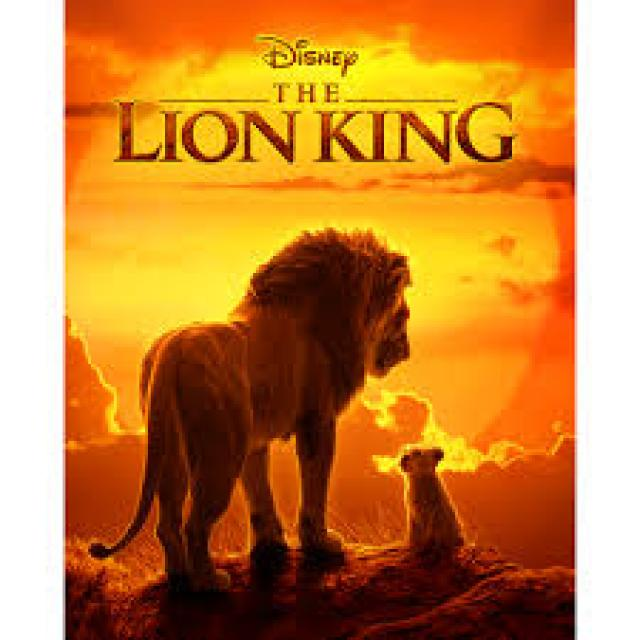Lion: (97, 226, 427, 597)
